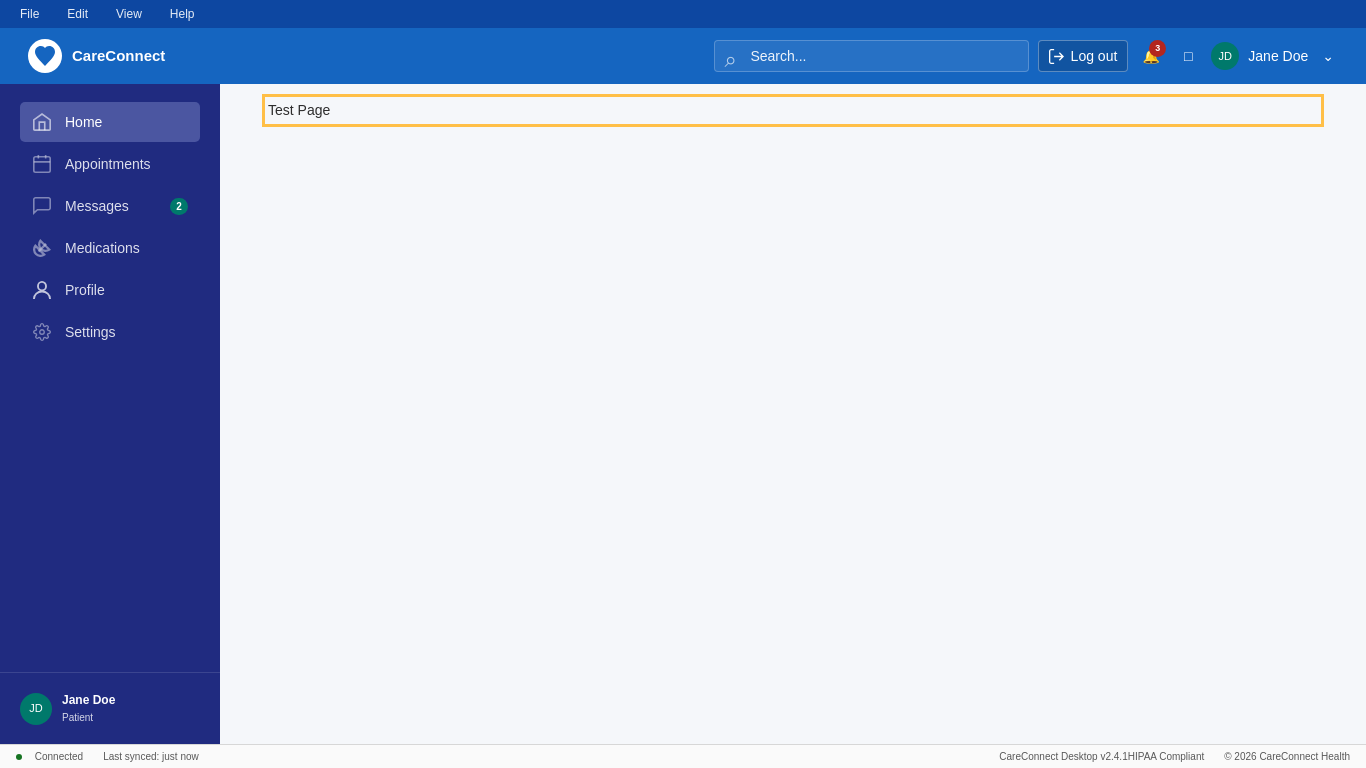
Test: sends a Windows test notification successfully
The image size is (1366, 768).
Check: the text "CareConnect v2.4.1" is shown, box [999, 749, 1350, 764]
Click the button named "Notifications, 3 unread" at (1151, 56), box [1137, 42, 1165, 70]
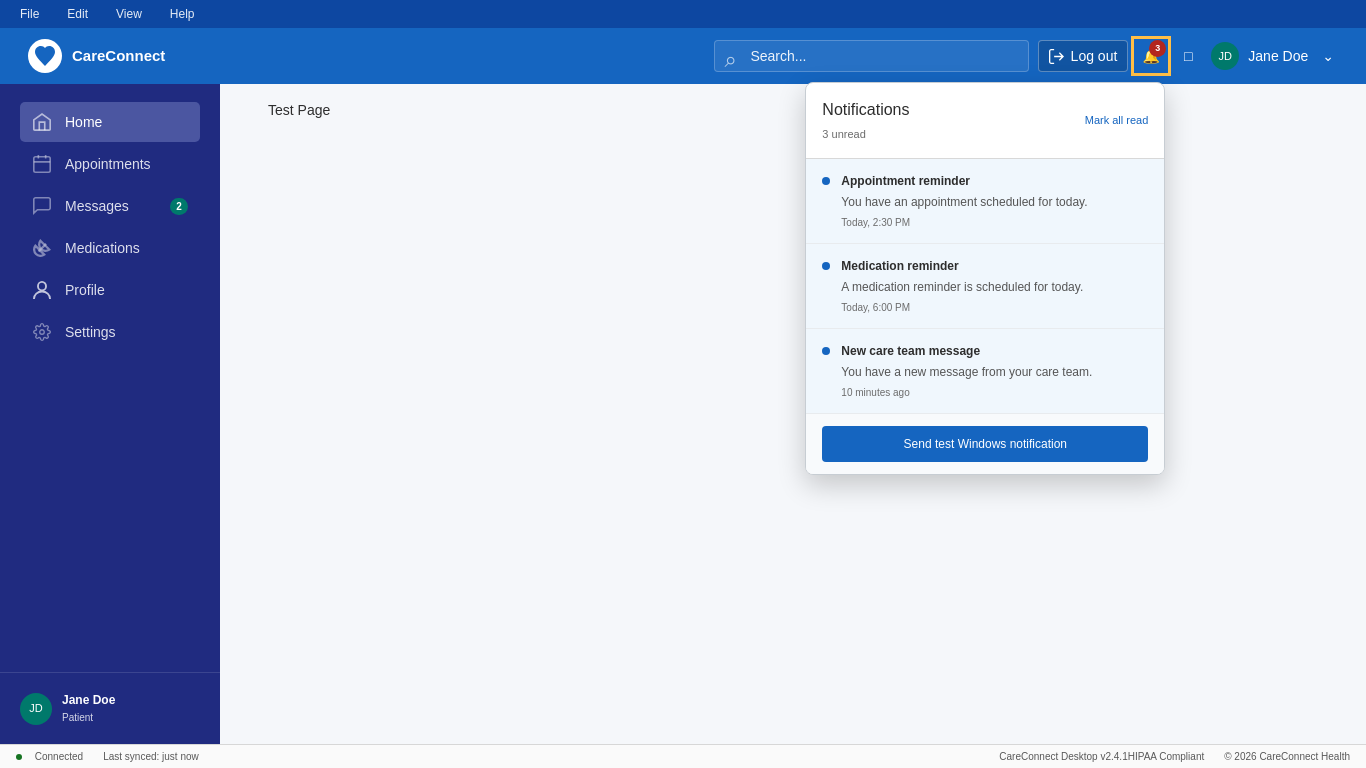
Click the button "Send test Windows notification" at (985, 444), box [822, 426, 1148, 462]
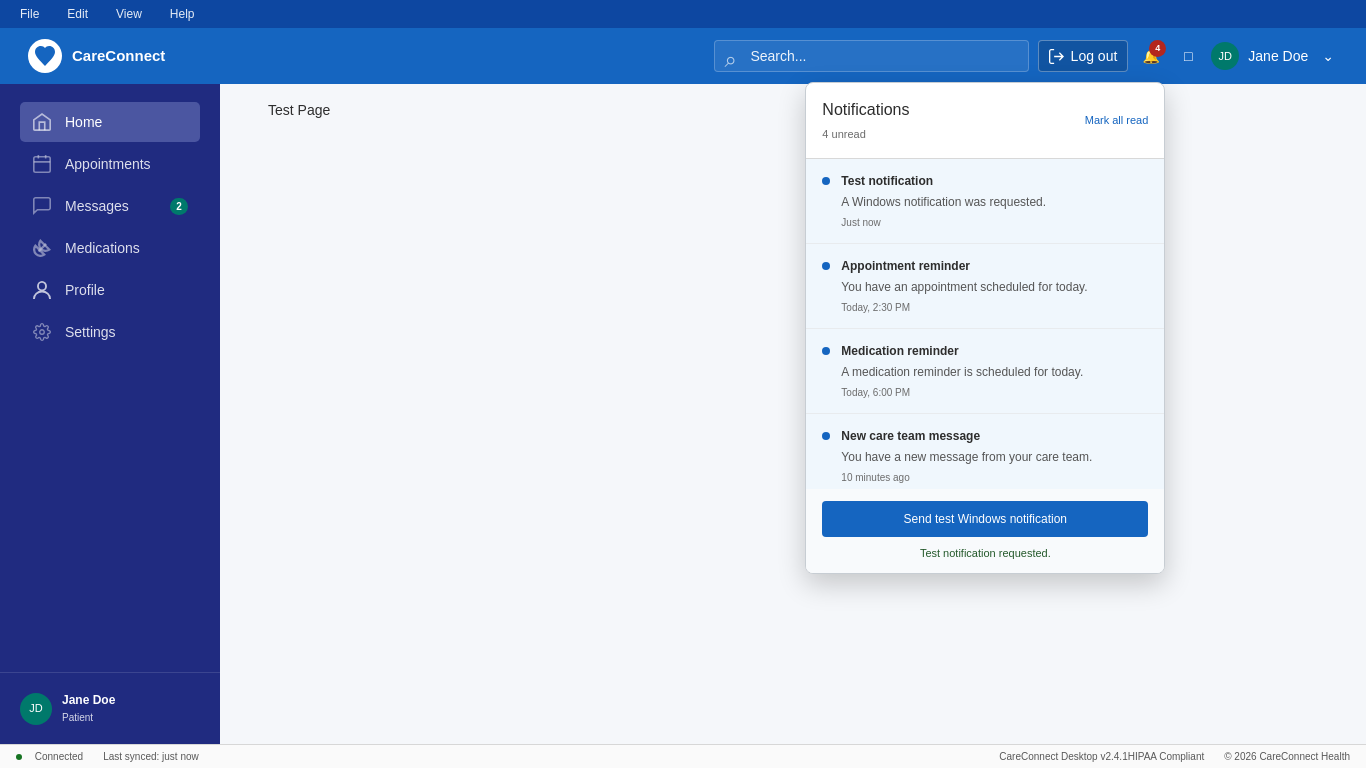
Check: the text "Test notification" is shown, box [841, 174, 933, 188]
